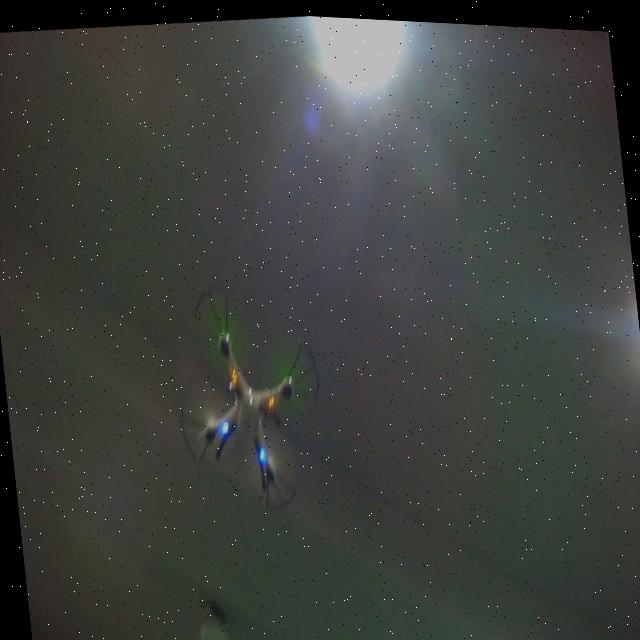drone: (164, 268, 335, 521)
